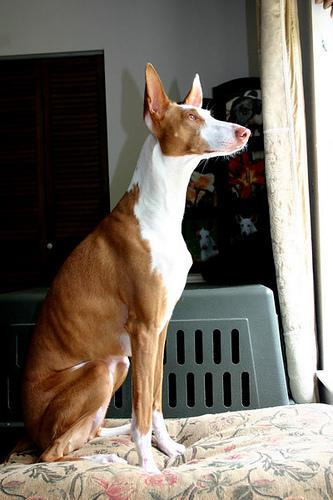Ibizan_hound: (18, 61, 251, 473)
